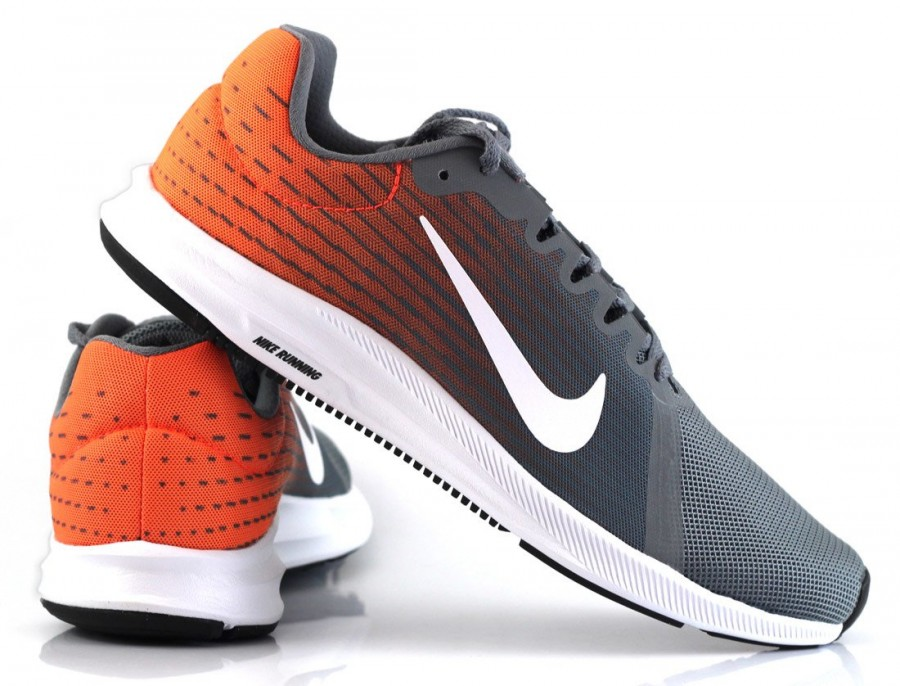nike: (414, 212, 612, 459)
